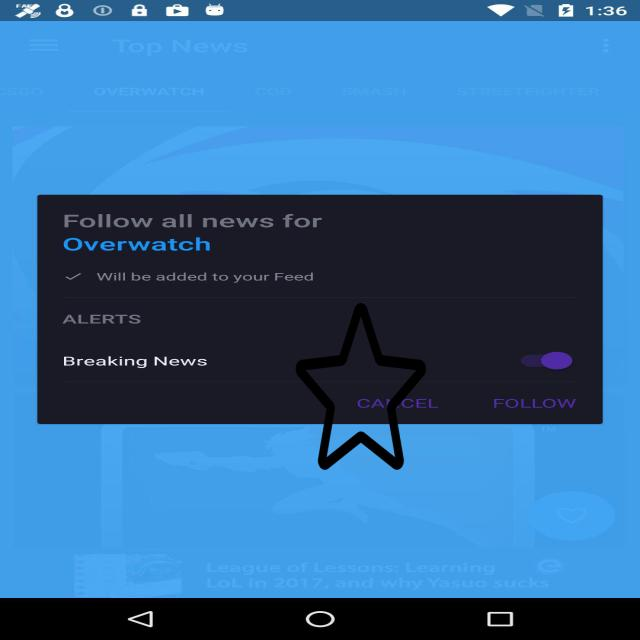forced continuity: (296, 300, 426, 473)
